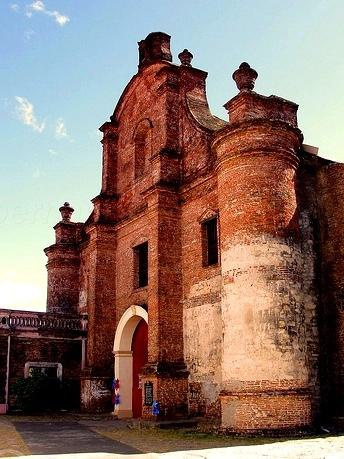santa_maria_church_santa_maria_ilocos_sur: (42, 20, 323, 436)
unfinished_paint: (178, 232, 323, 384)
